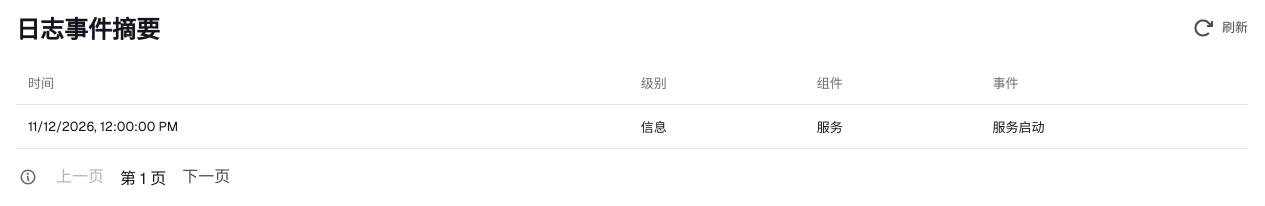
pages log records in both directions and resets to the first page on refresh
The width and height of the screenshot is (1265, 206).
Expected: the text "服务启动" is shown, x1=981 y1=104 x2=1248 y2=148
Click the button "下一页": (206, 177) x1=178 y1=165 x2=234 y2=189
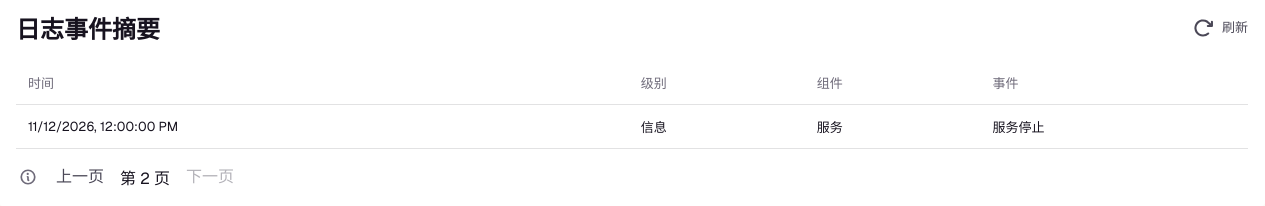
Now the text "服务停止" is shown, box x1=981 y1=104 x2=1248 y2=148
Now the text "服务启动" is gone
Now the text "第 2 页" is shown, box x1=120 y1=165 x2=170 y2=189
Click the button "上一页": (80, 177) x1=52 y1=165 x2=108 y2=189
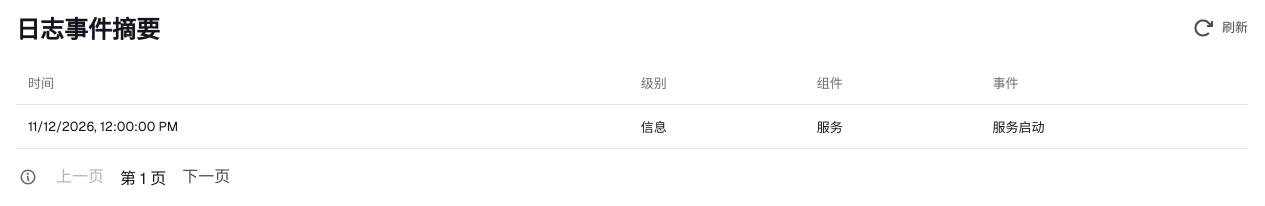
Now the text "服务启动" is shown, box x1=981 y1=104 x2=1248 y2=148
Now the text "第 1 页" is shown, box x1=120 y1=165 x2=166 y2=189
Click the button "下一页": (206, 177) x1=178 y1=165 x2=234 y2=189
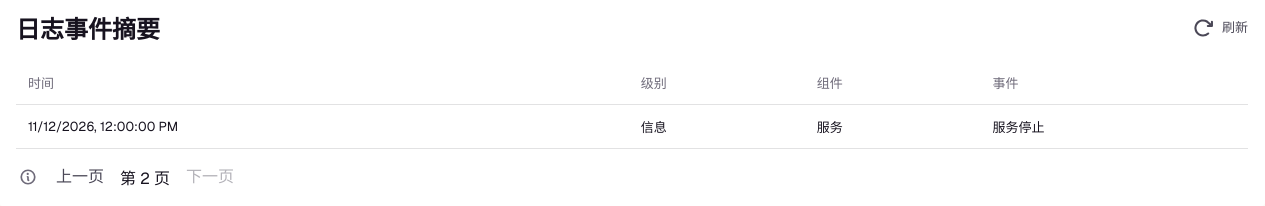
Now the text "第 2 页" is shown, box x1=120 y1=165 x2=170 y2=189
Click the button with aria-label "刷新日志事件摘要": (1220, 28) x1=1192 y1=16 x2=1248 y2=38
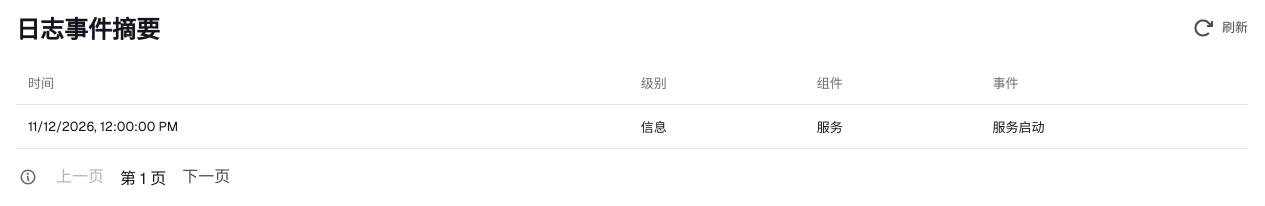
Now the text "第 1 页" is shown, box x1=120 y1=165 x2=166 y2=189
